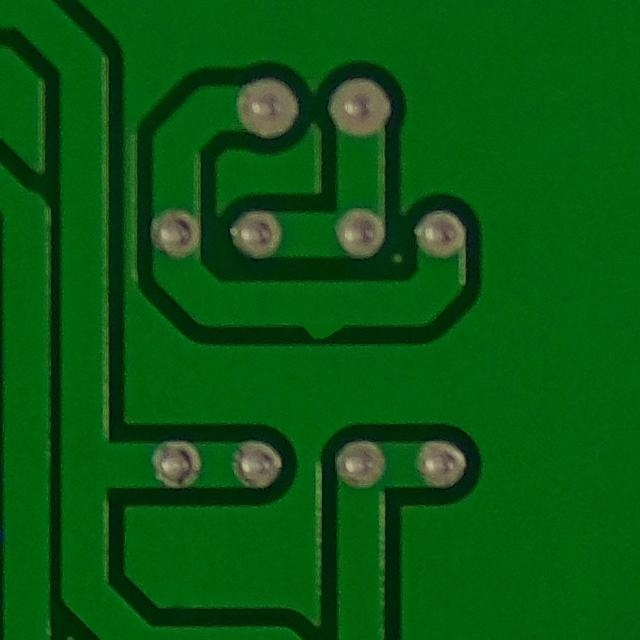spur: (280, 295, 361, 346)
